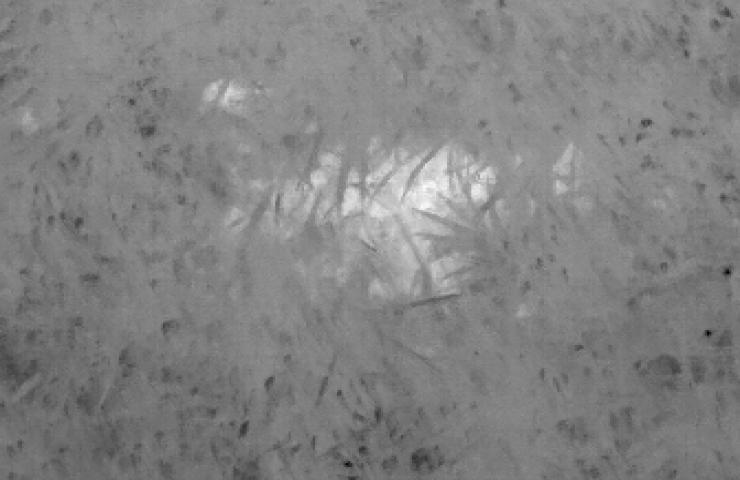landmines: (283, 141, 504, 305)
